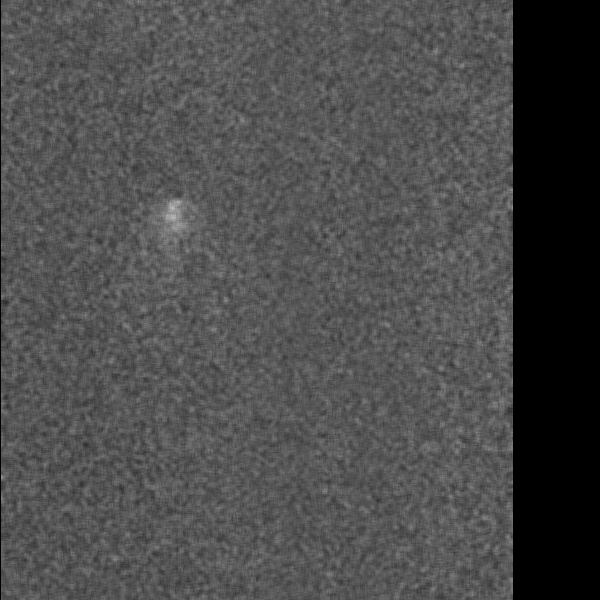spark: (161, 193, 186, 286)
